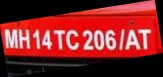character: (124, 29, 141, 51), (4, 27, 18, 49), (137, 27, 151, 49), (65, 29, 79, 49), (52, 28, 65, 49), (81, 29, 94, 50), (18, 27, 30, 49), (104, 29, 116, 51), (41, 29, 53, 49), (93, 29, 104, 50), (32, 28, 40, 50), (118, 29, 125, 50)
